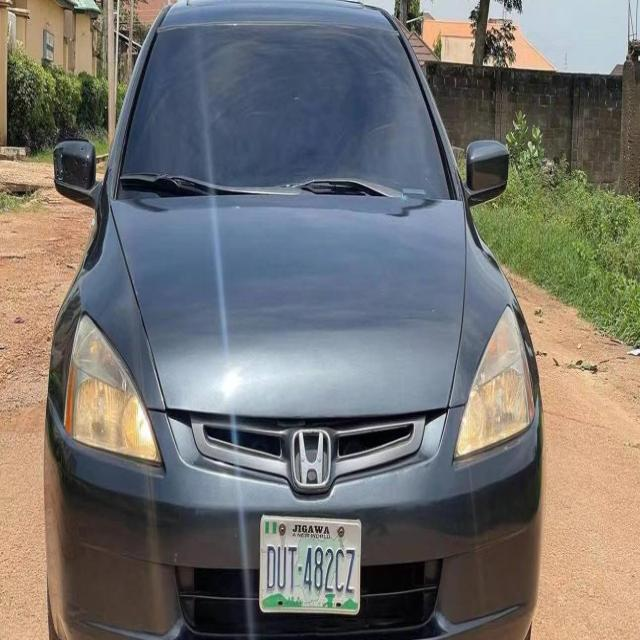Nigerian License Plate - vdataset benjamin-daria: (258, 508, 363, 621)
